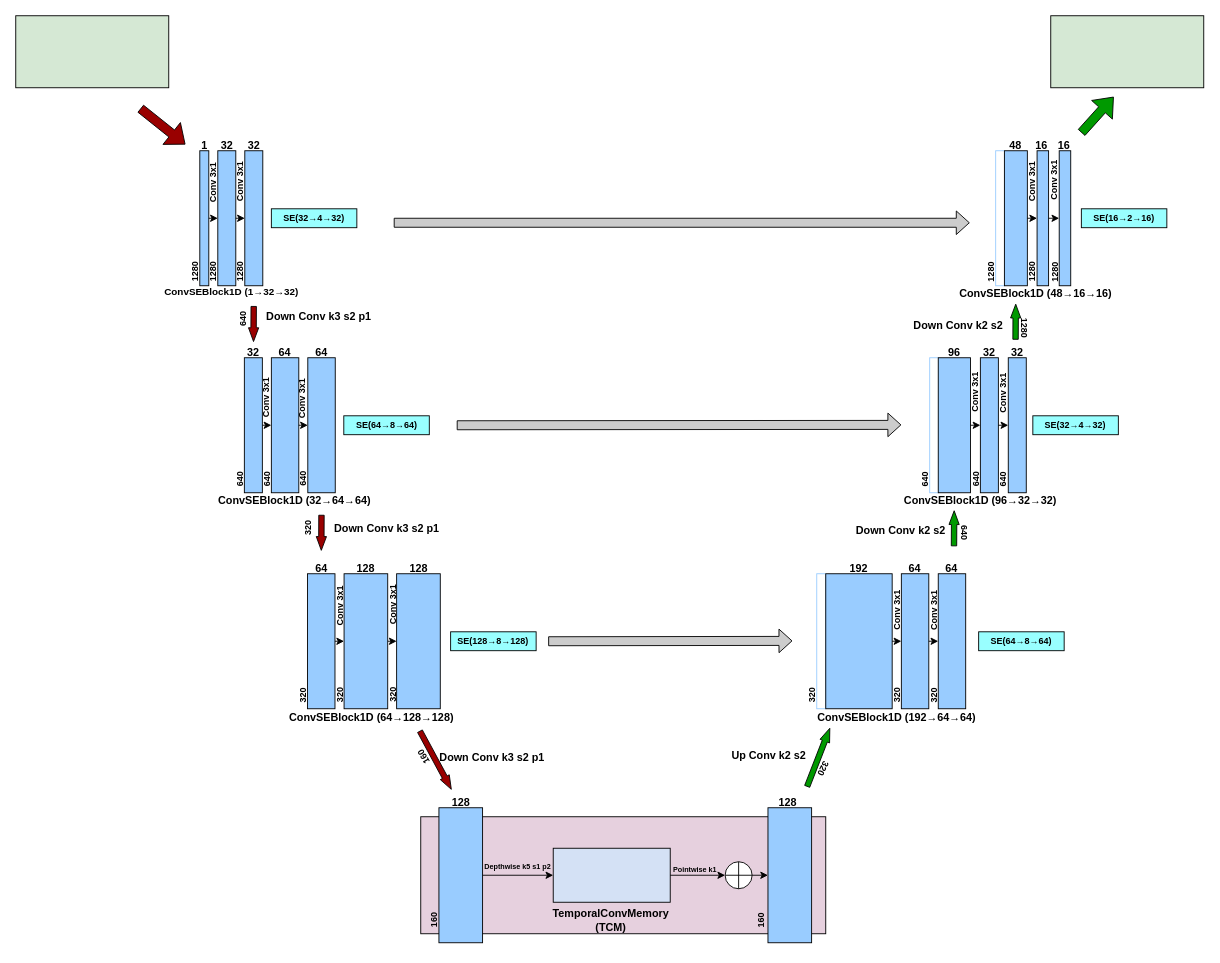
The diagram is 1220 pixels wide and 963 high, and some of its shapes have lost their labels. The centre of each missing label's shape, as x and y in pixels:
BIS Flatten→Linear 16→1 64,16,1: point (1127, 51)
EEG (Batch, Channel, Windows sec x Hz) (64, 1, 10 x 128): point (92, 51)
ReLU: point (611, 874)
